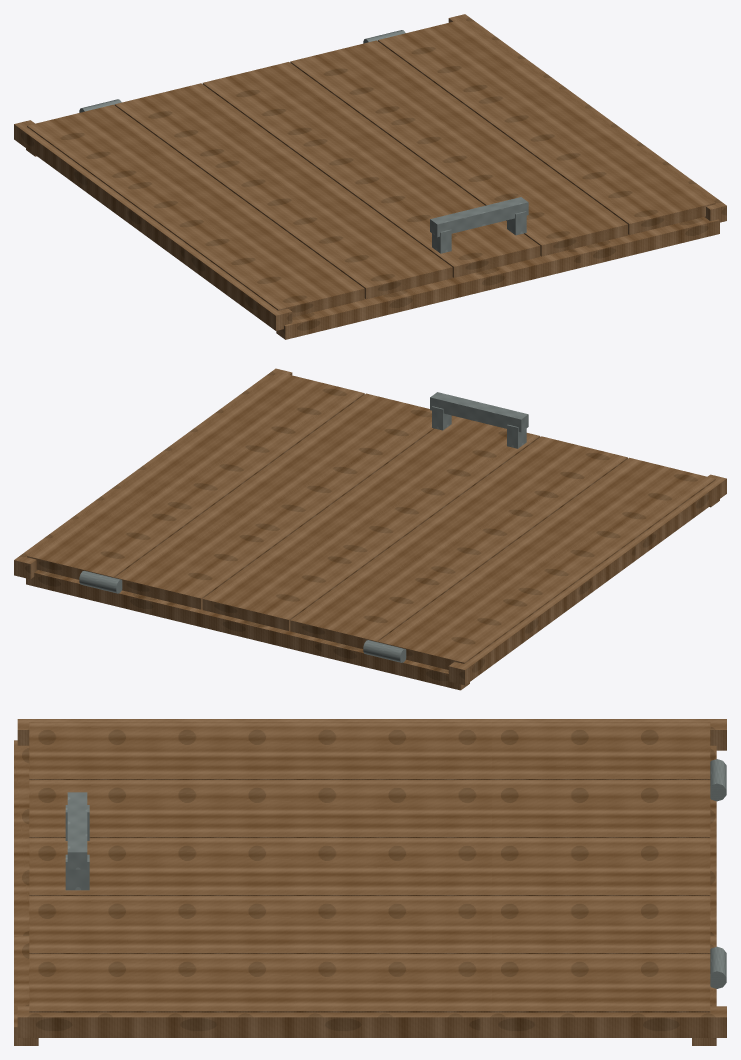
File: PZ_Mossfield_CompostBin_RemovableLid_HINGE_PIVOT.glb
The picture shows the model from 3 angles, top to bottom: view 1: azimuth 30°, elevation 25°; view 2: azimuth 150°, elevation 25°; view 3: azimuth 270°, elevation 25°; orthographic projection. The views are drawn at different scales.
Parts seen in each view (by area): view 1: LID_TopPlank_02, LID_TopPlank_05, LID_TopPlank_01, LID_TopPlank_04, LID_TopPlank_03, LID_CrossBatten_FRONT, LID_EdgeBead_LEFT, LID_EdgeBead_RIGHT, LID_LiftHandle_Grip; view 2: LID_TopPlank_02, LID_TopPlank_04, LID_TopPlank_05, LID_TopPlank_03, LID_TopPlank_01, LID_CrossBatten_REAR, LID_EdgeBead_LEFT, LID_EdgeBead_RIGHT, LID_LiftHandle_Grip, LID_HingeBarrel_LEFT, LID_HingeBarrel_RIGHT; view 3: LID_TopPlank_05, LID_TopPlank_01, LID_TopPlank_04, LID_TopPlank_02, LID_TopPlank_03, LID_EdgeBead_RIGHT, LID_CrossBatten_FRONT, LID_EdgeBead_LEFT, LID_LiftHandle_Grip, LID_CrossBatten_REAR, LID_HingeBarrel_LEFT, LID_HingeBarrel_RIGHT (+1 smaller).
Boxes of the visible parts, x1,y1,x2,y2 form: LID_TopPlank_02: [114, 83, 452, 299]; LID_TopPlank_05: [378, 19, 715, 234]; LID_TopPlank_01: [27, 104, 364, 317]; LID_TopPlank_04: [290, 40, 627, 256]; LID_TopPlank_03: [202, 62, 540, 277]; LID_CrossBatten_FRONT: [276, 217, 719, 339]; LID_EdgeBead_LEFT: [14, 120, 292, 330]; LID_EdgeBead_RIGHT: [448, 14, 726, 222]; LID_LiftHandle_Grip: [430, 197, 528, 237]; LID_TopPlank_02: [290, 436, 627, 648]; LID_TopPlank_04: [114, 393, 452, 609]; LID_TopPlank_05: [27, 372, 364, 579]; LID_TopPlank_03: [202, 416, 540, 630]; LID_TopPlank_01: [378, 457, 715, 669]; LID_CrossBatten_REAR: [26, 570, 469, 690]; LID_EdgeBead_LEFT: [448, 474, 726, 685]; LID_EdgeBead_RIGHT: [14, 368, 292, 579]; LID_LiftHandle_Grip: [430, 392, 528, 432]; LID_HingeBarrel_LEFT: [363, 640, 406, 662]; LID_HingeBarrel_RIGHT: [79, 570, 122, 593]; LID_TopPlank_05: [29, 954, 710, 1012]; LID_TopPlank_01: [29, 722, 710, 779]; LID_TopPlank_04: [29, 896, 710, 953]; LID_TopPlank_02: [29, 780, 710, 837]; LID_TopPlank_03: [29, 838, 710, 895]; LID_EdgeBead_RIGHT: [17, 1006, 726, 1037]; LID_CrossBatten_FRONT: [14, 740, 38, 1045]; LID_EdgeBead_LEFT: [17, 719, 726, 750]; LID_LiftHandle_Grip: [67, 792, 87, 869]; LID_CrossBatten_REAR: [692, 745, 716, 1045]; LID_HingeBarrel_LEFT: [710, 759, 726, 801]; LID_HingeBarrel_RIGHT: [710, 946, 726, 988].
Bounding box in the file's own units: 1.14 × 0.143 × 1.16.
2 materials, 2 textured.
